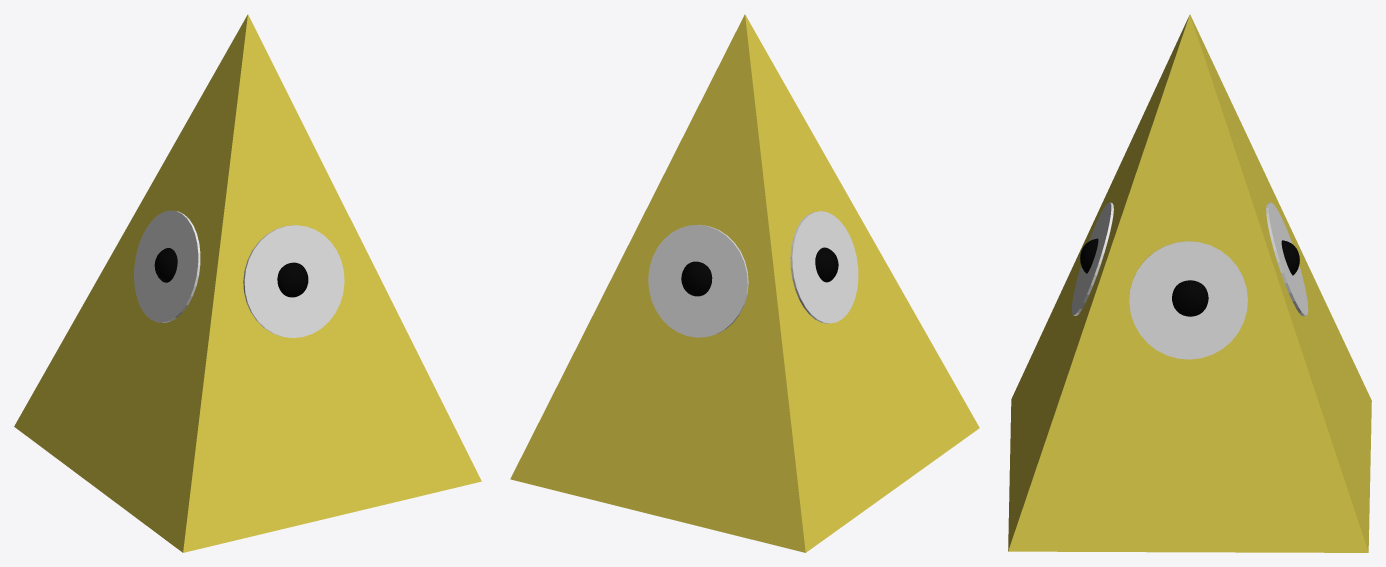
File: cabeza-piramidePlayer.glb
The picture shows the model from 3 angles, left to right: view 1: azimuth 30°, elevation 25°; view 2: azimuth 150°, elevation 25°; view 3: azimuth 270°, elevation 25°; orthographic projection. The views are drawn at different scales.
Visible parts, largest first — view 1: Cone, Cylinder, Cube; view 2: Cone, Cylinder, Cube; view 3: Cone, Cylinder, Cube.
Part boxes in pixels (box(x1,y1,x2,y2)): Cone: box(14, 14, 481, 552); Cylinder: box(134, 210, 344, 337); Cube: box(154, 248, 308, 297); Cone: box(510, 14, 979, 552); Cylinder: box(648, 211, 858, 337); Cube: box(681, 247, 838, 296); Cone: box(1008, 14, 1371, 552); Cylinder: box(1071, 202, 1308, 359); Cube: box(1080, 238, 1299, 316).
Bounding box in the file's own units: 1.63 × 2.29 × 1.63.
